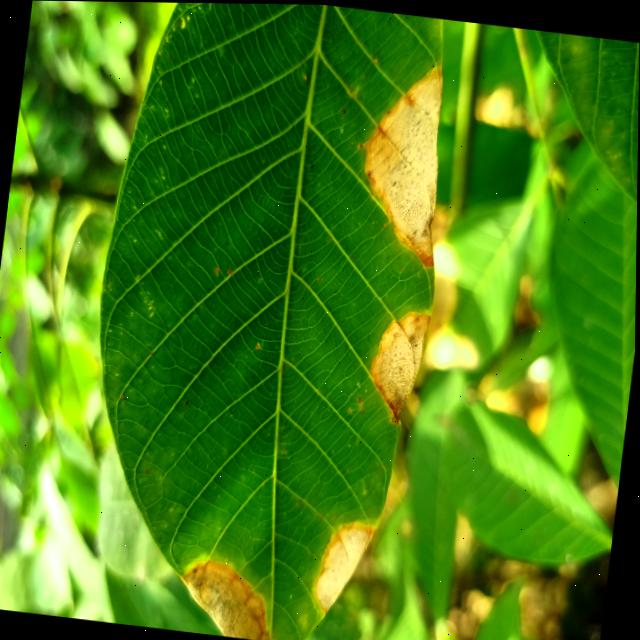Leaf-Blight: (352, 57, 457, 265), (177, 554, 282, 640), (366, 304, 433, 424), (313, 515, 376, 617)
